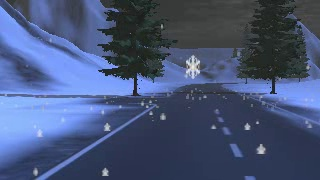Lane: (44, 82, 319, 178)
